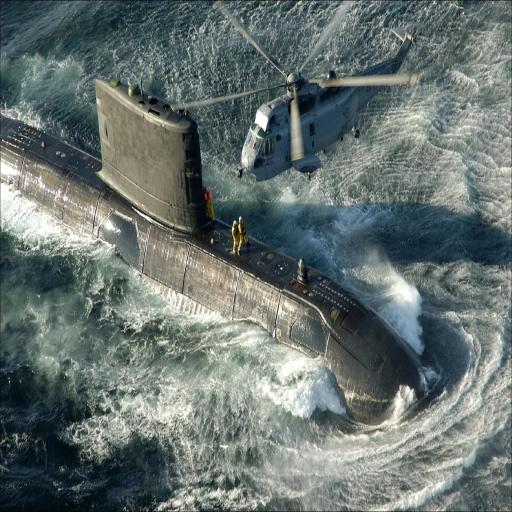submarine: (1, 66, 435, 426)
